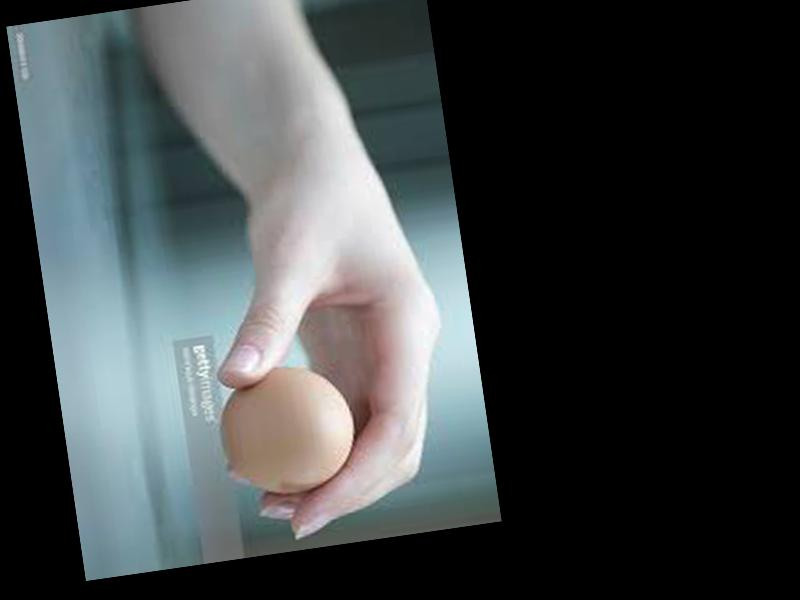Eggs: (209, 355, 363, 502)
